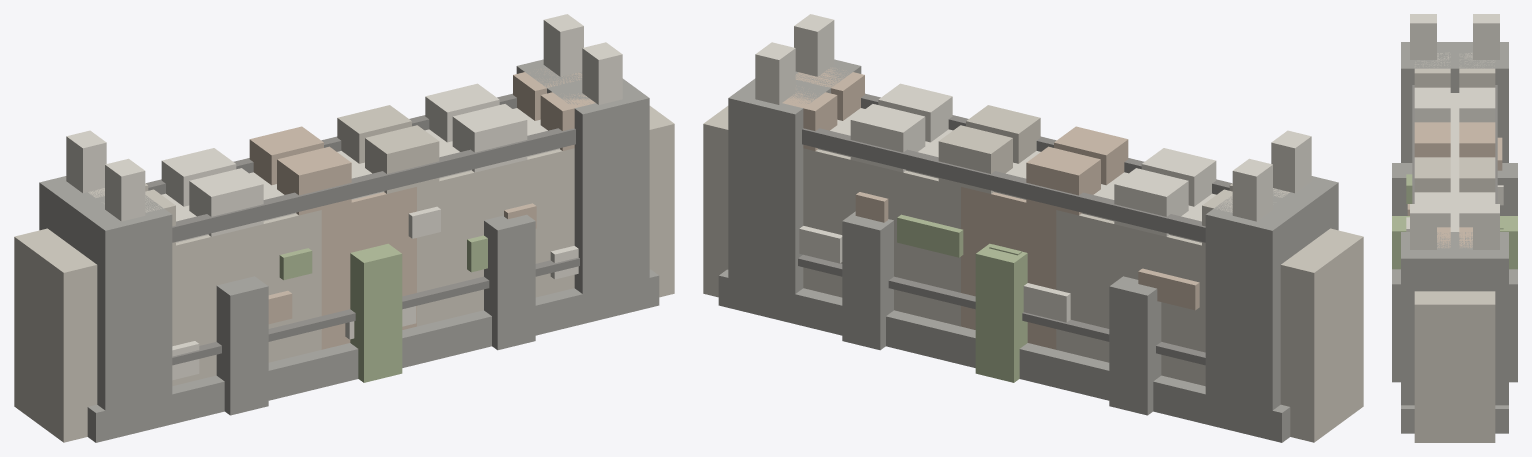
Rendered from wall.glb.
3 views of the same model, side by side, from view 1: azimuth 30°, elevation 25°; view 2: azimuth 150°, elevation 25°; view 3: azimuth 270°, elevation 25° (orthographic). The views are drawn at different scales.
Visible parts, largest first — view 1: world; view 2: world; view 3: world.
Part boxes in pixels (bbox=[...]): world: bbox=[14, 14, 674, 442]; world: bbox=[703, 14, 1363, 442]; world: bbox=[1392, 14, 1517, 442].
Bounding box in the file's own units: 1.28 × 0.51 × 0.28.
